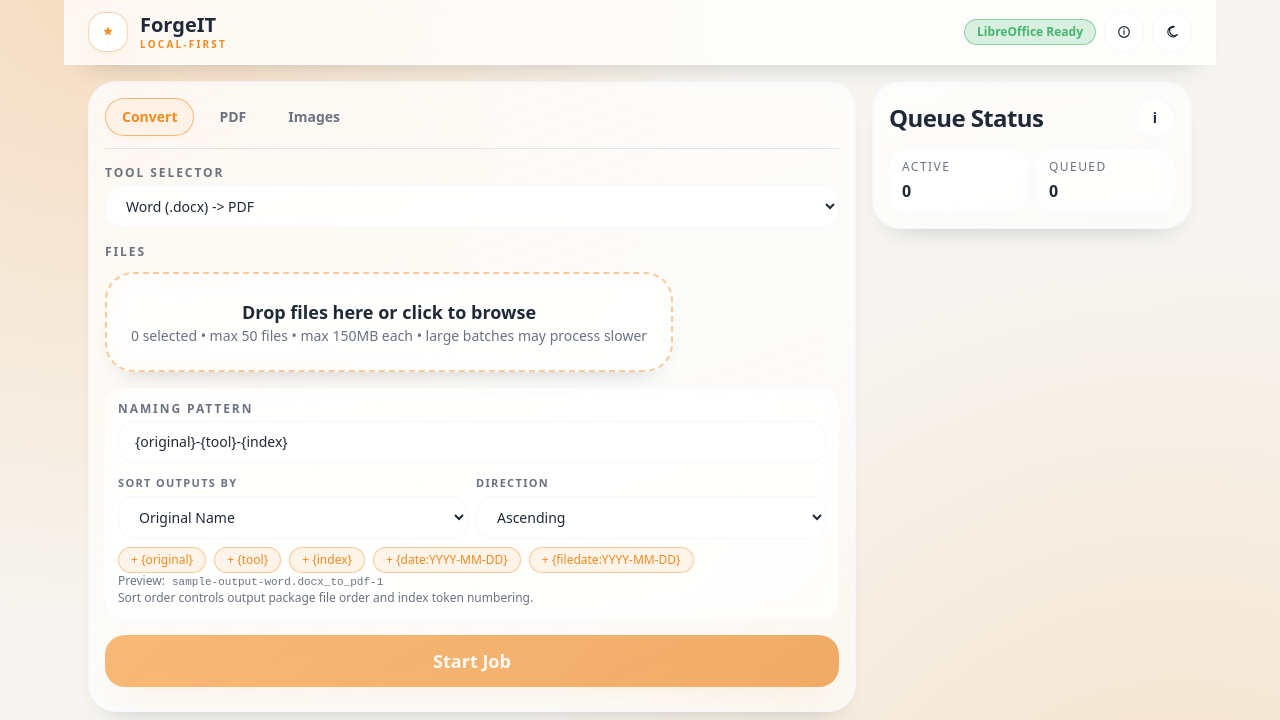
Test case: Dashboard UI shell › shows filename-date mode controls when selecting smart filename sort
Expected: the text "Mode" is not shown
Select "Date in Filename (Smart)" in the dropdown named "Sort outputs by" at (293, 517), box [118,496,468,538]
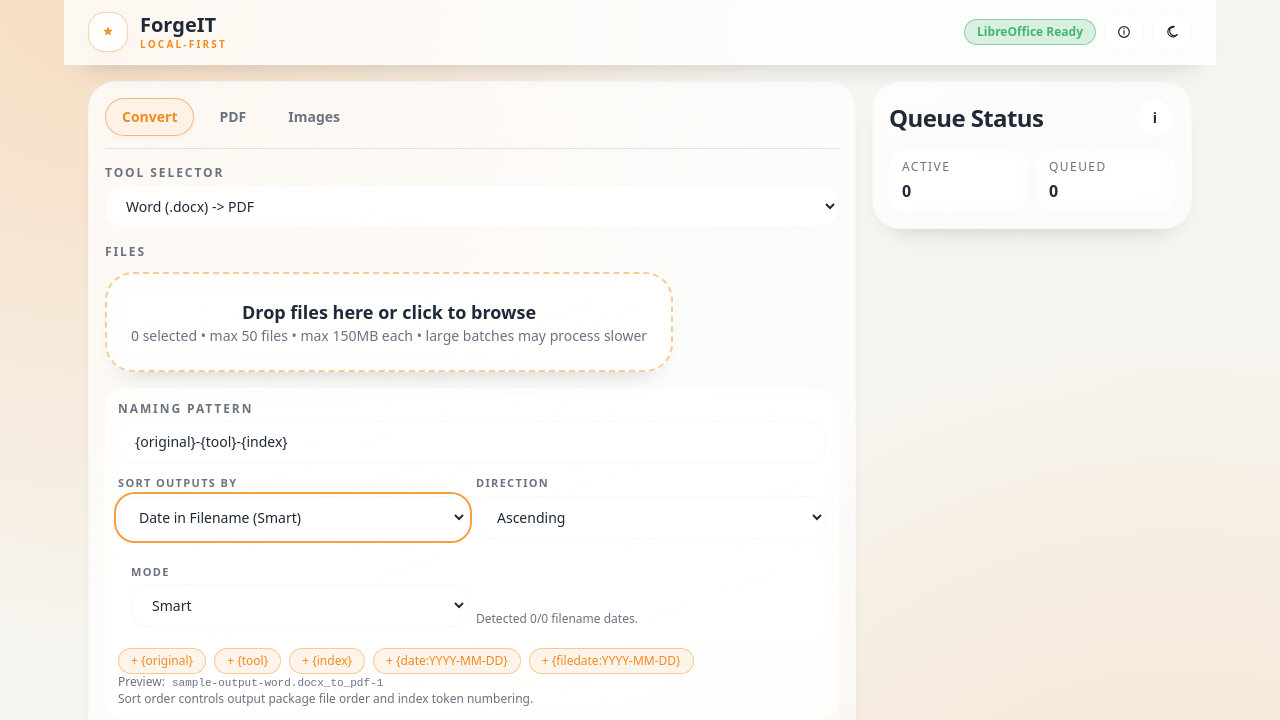
Expected: the text "Mode" is shown, [131,564,170,578]
